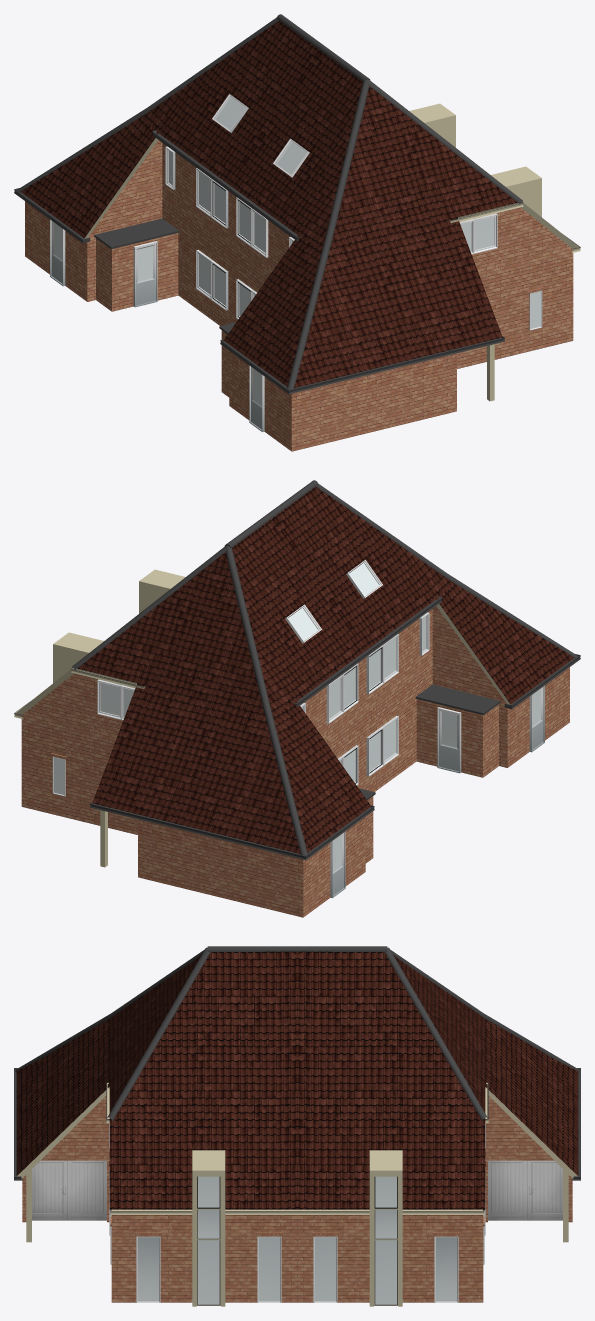
File: Estrik 4 6 12 14.fbx
The picture shows the model from 3 angles, top to bottom: view 1: azimuth 30°, elevation 25°; view 2: azimuth 150°, elevation 25°; view 3: azimuth 270°, elevation 25°; orthographic projection. The views are drawn at different scales.
Visible parts, largest first — view 1: Estrik_4_6_12_14; view 2: Estrik_4_6_12_14; view 3: Estrik_4_6_12_14.
Part boxes in pixels (x1,y1,x2,y2): Estrik_4_6_12_14: (14,14,580,451); Estrik_4_6_12_14: (14,480,580,917); Estrik_4_6_12_14: (14,946,580,1306).
Bounding box in the file's own units: 13.59 × 10.23 × 19.07.
